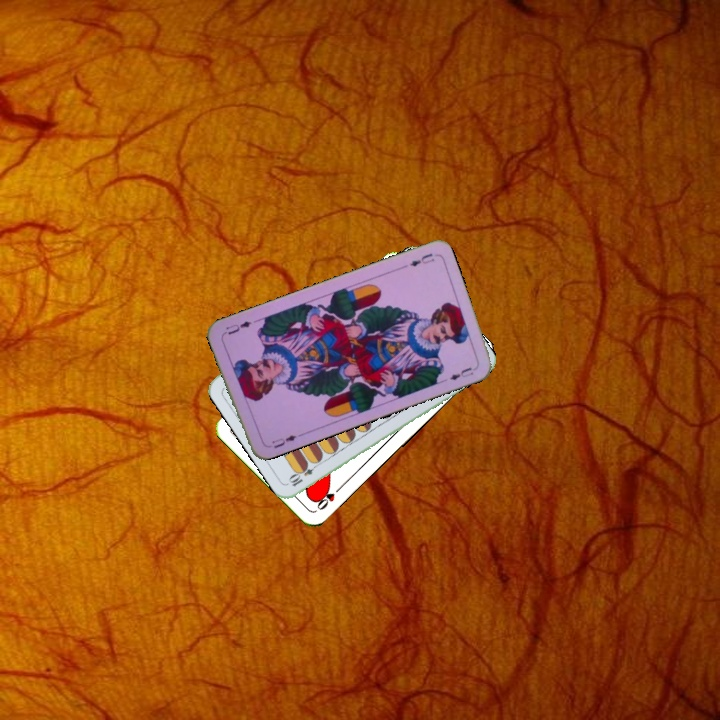E10: (285, 458, 322, 489)
EU: (398, 249, 437, 271), (263, 430, 302, 451)
HO: (313, 482, 345, 513)
